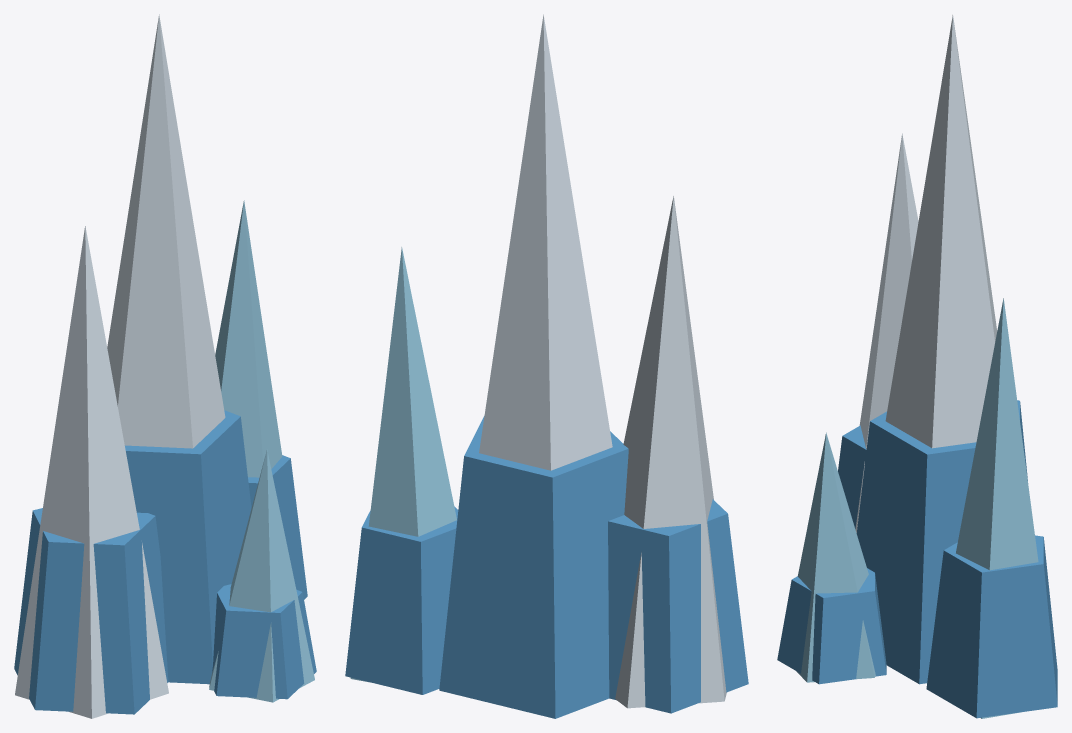
Rendered from Ice_Spire.obj.
The picture shows the model from 3 angles, left to right: view 1: azimuth 30°, elevation 25°; view 2: azimuth 150°, elevation 25°; view 3: azimuth 270°, elevation 25°; orthographic projection. The views are drawn at different scales.
Parts seen in each view (by area): view 1: Ice_Spire; view 2: Ice_Spire; view 3: Ice_Spire.
Part boxes in pixels (bbox=[...]): Ice_Spire: bbox=[14, 14, 316, 718]; Ice_Spire: bbox=[345, 14, 748, 718]; Ice_Spire: bbox=[777, 15, 1057, 718].
Bounding box in the file's own units: 3.2 × 6.02 × 2.43.
Materials: 1 (1 with a texture image).
